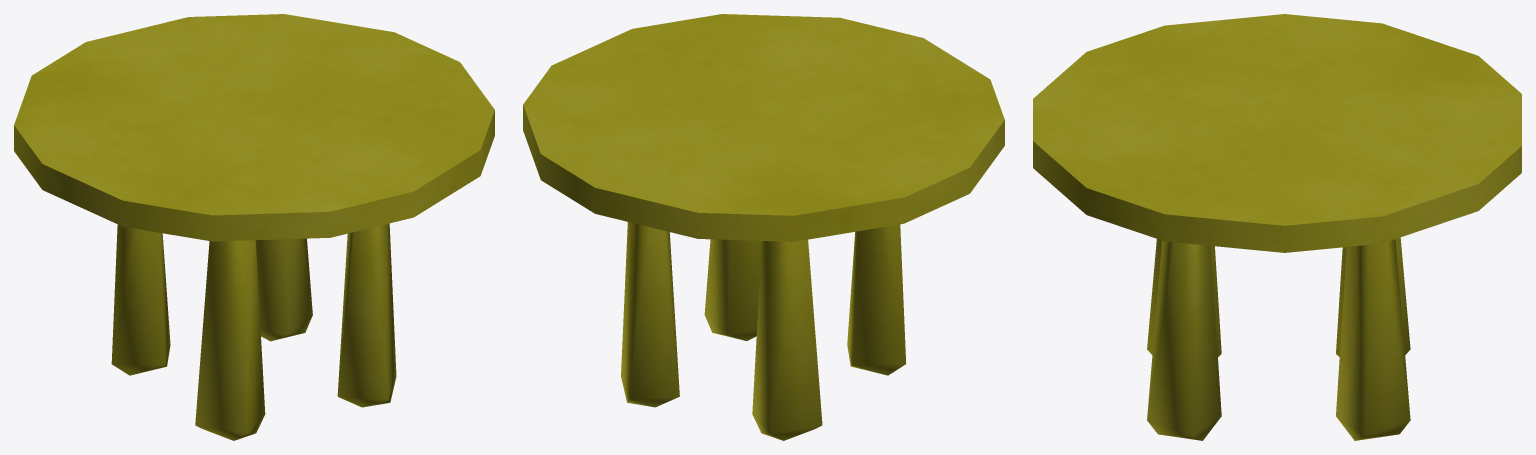
Rendered from Table_02.fbx.
3 renders of one model, left to right at view 1: azimuth 30°, elevation 25°; view 2: azimuth 150°, elevation 25°; view 3: azimuth 270°, elevation 25°, orthographic. The views are drawn at different scales.
Visible parts, largest first — view 1: Table_02; view 2: Table_02; view 3: Table_02.
Boxes of the visible parts, box(x1,y1,x2,y2) form: Table_02: box(14, 14, 494, 440); Table_02: box(523, 14, 1004, 440); Table_02: box(1033, 14, 1521, 440).
Size of the model in its own units: 134 by 81.66 by 131.
